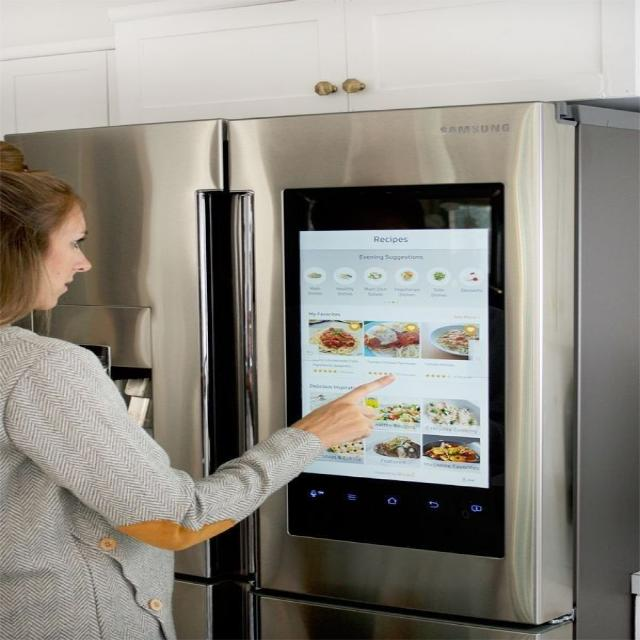obstacle: (2, 100, 637, 639), (109, 0, 638, 126)
person: (0, 169, 382, 640)
